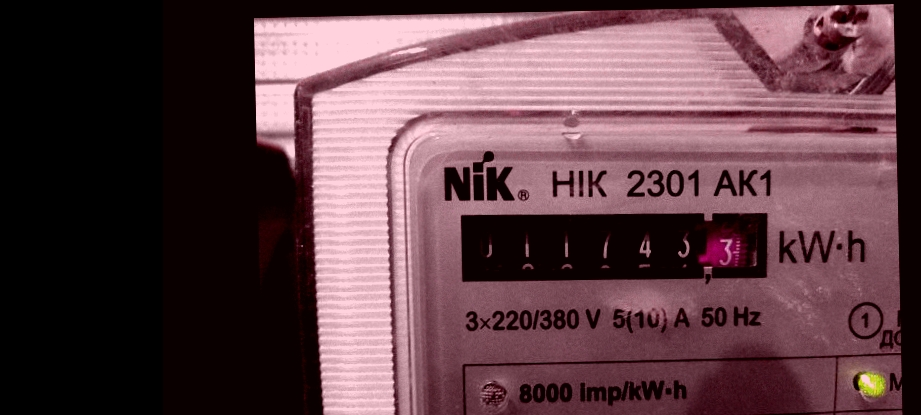0: (475, 224, 495, 261)
1: (558, 224, 574, 258), (521, 225, 532, 258)
3: (672, 224, 692, 259), (716, 235, 735, 268)
4: (635, 225, 653, 259)
7: (596, 225, 615, 259)
screen: (445, 195, 781, 296)
